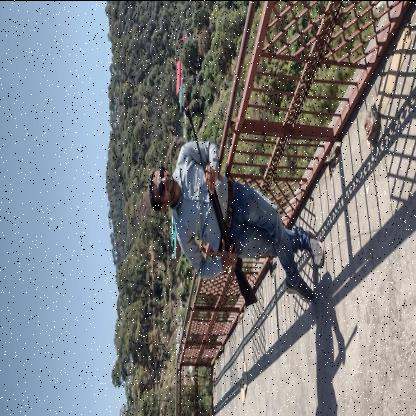rifle: (184, 103, 258, 307)
